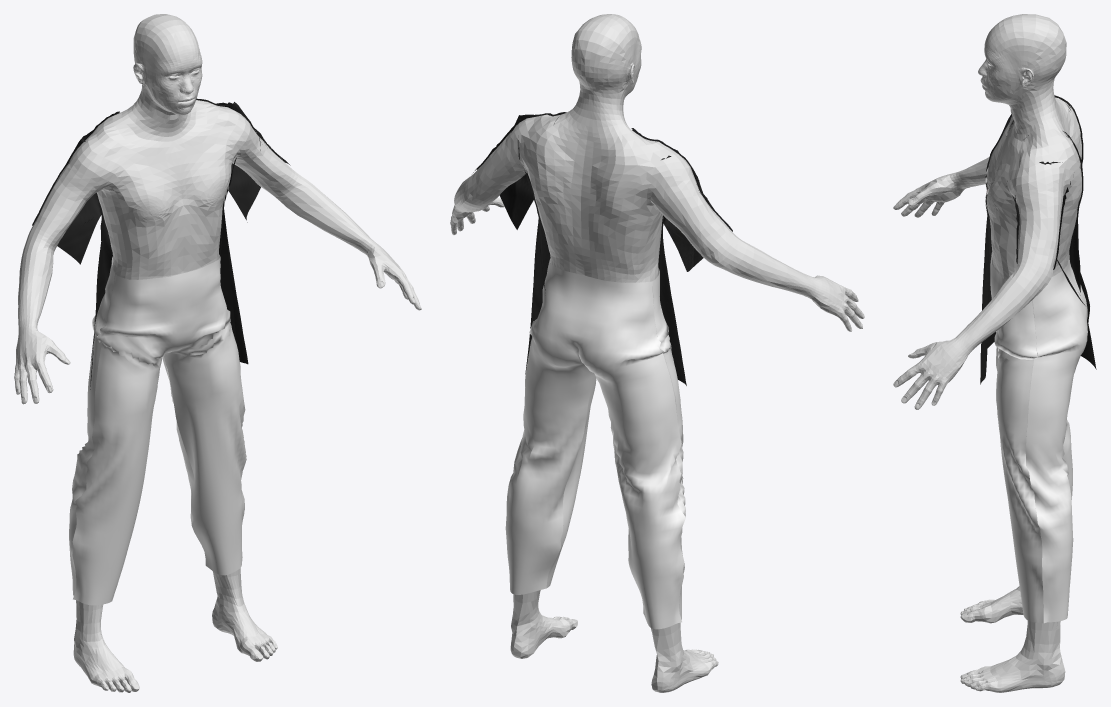
File: 1645885467886result.glb
The picture shows the model from 3 angles, left to right: view 1: azimuth 30°, elevation 25°; view 2: azimuth 150°, elevation 25°; view 3: azimuth 270°, elevation 25°; orthographic projection.
Parts seen in each view (by area): view 1: makehuman_1.1-2021-12-29T14:18:15.898Z, Plane_Plane.003, top(black)_L_Plane.006; view 2: makehuman_1.1-2021-12-29T14:18:15.898Z, Plane_Plane.003, top(black)_L_Plane.006; view 3: makehuman_1.1-2021-12-29T14:18:15.898Z, Plane_Plane.003, top(black)_L_Plane.006.
Boxes of the visible parts, bbox=[...] form: makehuman_1.1-2021-12-29T14:18:15.898Z: bbox=[14, 14, 421, 692]; Plane_Plane.003: bbox=[69, 254, 246, 605]; top(black)_L_Plane.006: bbox=[32, 98, 290, 389]; makehuman_1.1-2021-12-29T14:18:15.898Z: bbox=[450, 14, 864, 692]; Plane_Plane.003: bbox=[505, 258, 685, 629]; top(black)_L_Plane.006: bbox=[473, 112, 732, 385]; makehuman_1.1-2021-12-29T14:18:15.898Z: bbox=[893, 14, 1081, 692]; Plane_Plane.003: bbox=[990, 252, 1087, 623]; top(black)_L_Plane.006: bbox=[980, 95, 1096, 384].
Bounding box in the file's own units: 11.33 × 17.3 × 5.03.
3 materials, 1 textured.
